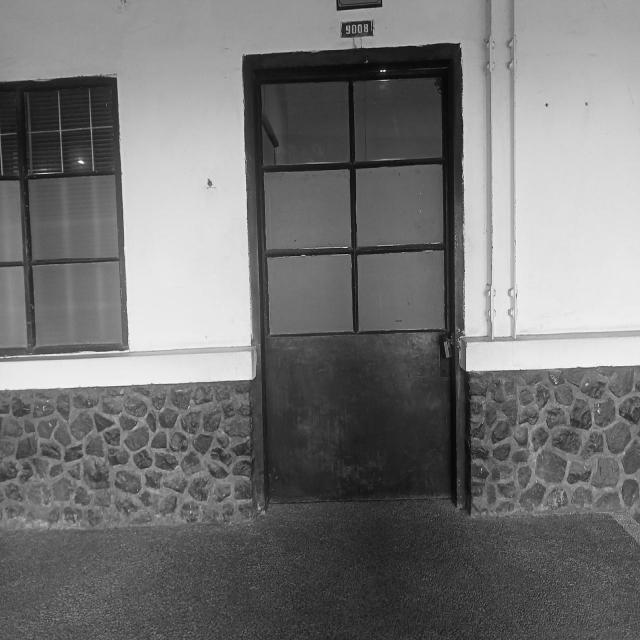door: (247, 55, 467, 512)
